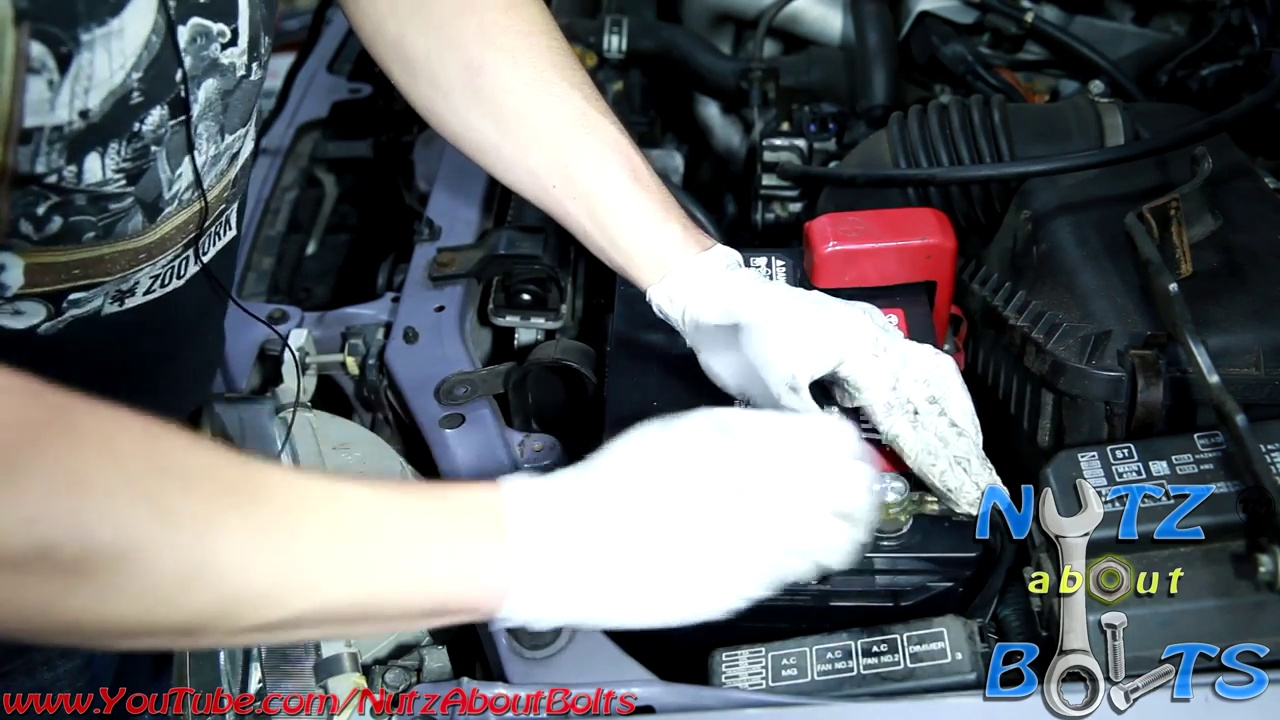battery: (613, 191, 1006, 601)
neg_touched: (784, 383, 986, 565)
pos_connected: (790, 209, 976, 327)
pos_touched: (769, 199, 983, 404)
